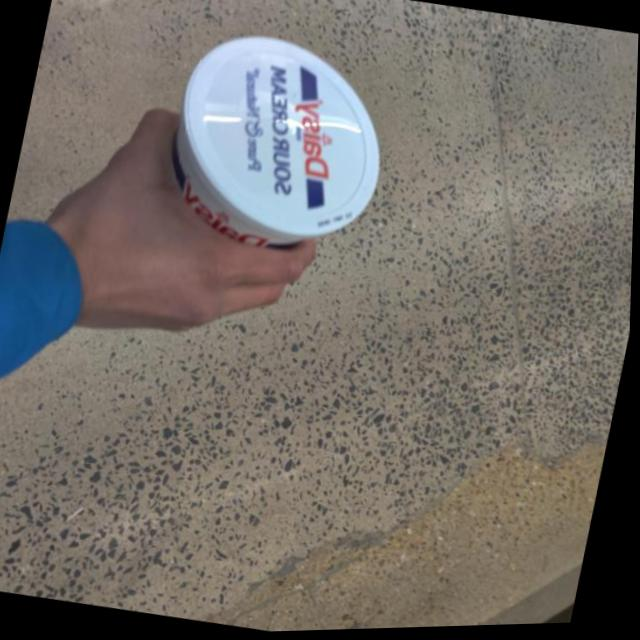Yogurt: (150, 14, 408, 272)
